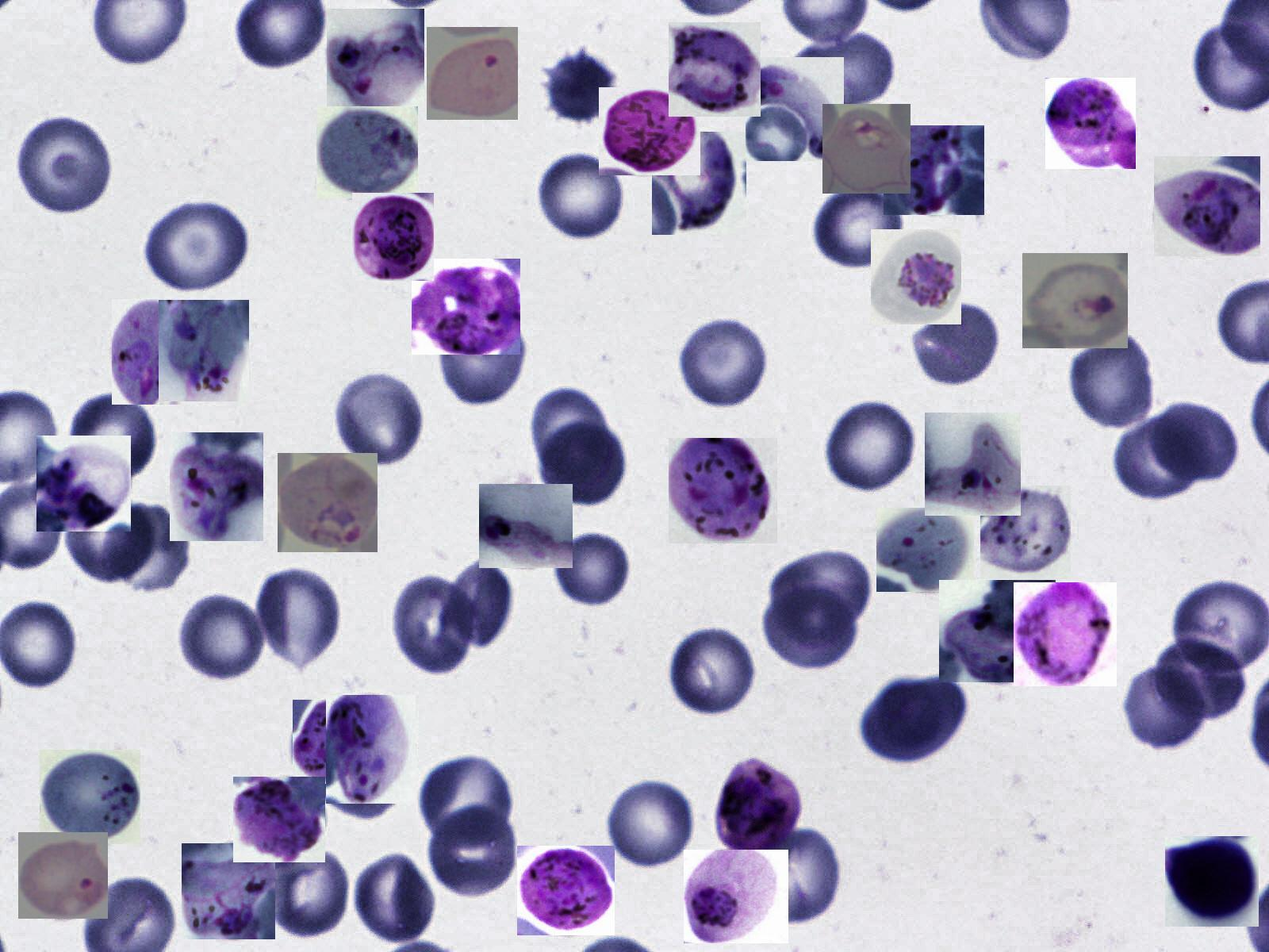Infected: (939, 581, 1056, 683), (669, 438, 777, 543), (1014, 582, 1117, 686), (1154, 156, 1260, 256), (412, 259, 520, 355), (746, 57, 844, 161), (170, 432, 263, 541), (1022, 253, 1128, 348), (278, 453, 378, 552), (925, 413, 1021, 516), (326, 695, 416, 804), (327, 9, 424, 110), (684, 850, 789, 943), (652, 132, 746, 235), (40, 750, 140, 844), (316, 106, 418, 198), (711, 754, 801, 857), (36, 436, 131, 532), (159, 300, 249, 401), (884, 125, 984, 215), (182, 843, 275, 939), (599, 87, 700, 175), (669, 22, 761, 117), (517, 846, 615, 935), (112, 299, 194, 405), (1165, 836, 1259, 927), (871, 229, 961, 324), (980, 486, 1071, 579), (427, 27, 518, 120), (1045, 79, 1136, 170), (876, 508, 974, 592), (822, 104, 911, 194), (479, 484, 573, 568), (233, 777, 325, 862), (19, 832, 108, 919), (352, 193, 434, 281), (293, 700, 368, 784)
Uninfected: (747, 823, 849, 922), (144, 198, 251, 292), (13, 115, 113, 214), (822, 393, 921, 493), (861, 672, 968, 764), (810, 176, 911, 271), (425, 801, 523, 898), (1066, 331, 1160, 432), (414, 752, 515, 846), (332, 370, 427, 466), (429, 315, 524, 410), (534, 149, 632, 240), (1114, 413, 1215, 500), (176, 590, 269, 683), (604, 777, 697, 869), (680, 315, 771, 408), (907, 301, 1001, 390), (772, 547, 871, 631), (1119, 661, 1211, 751), (65, 392, 161, 478), (531, 385, 614, 483), (102, 505, 195, 591), (788, 35, 895, 109), (258, 566, 337, 666), (539, 422, 627, 511), (392, 576, 473, 672), (670, 628, 758, 716), (352, 850, 437, 941), (765, 589, 857, 673), (1149, 397, 1237, 484), (1152, 639, 1250, 717), (65, 497, 156, 581), (270, 849, 348, 940), (448, 557, 515, 648), (555, 528, 631, 608), (541, 46, 618, 122)
